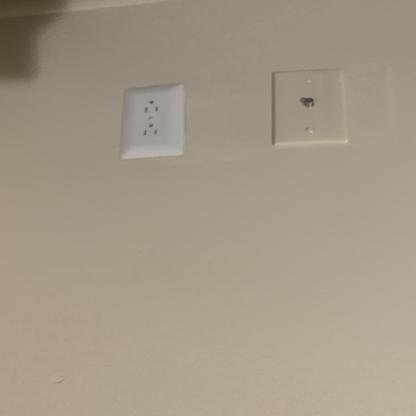OUTLET: (119, 86, 188, 160)
